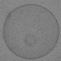small: (24, 34, 36, 46)
